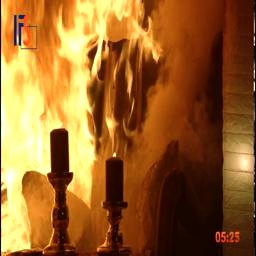fire: (2, 0, 137, 118)
